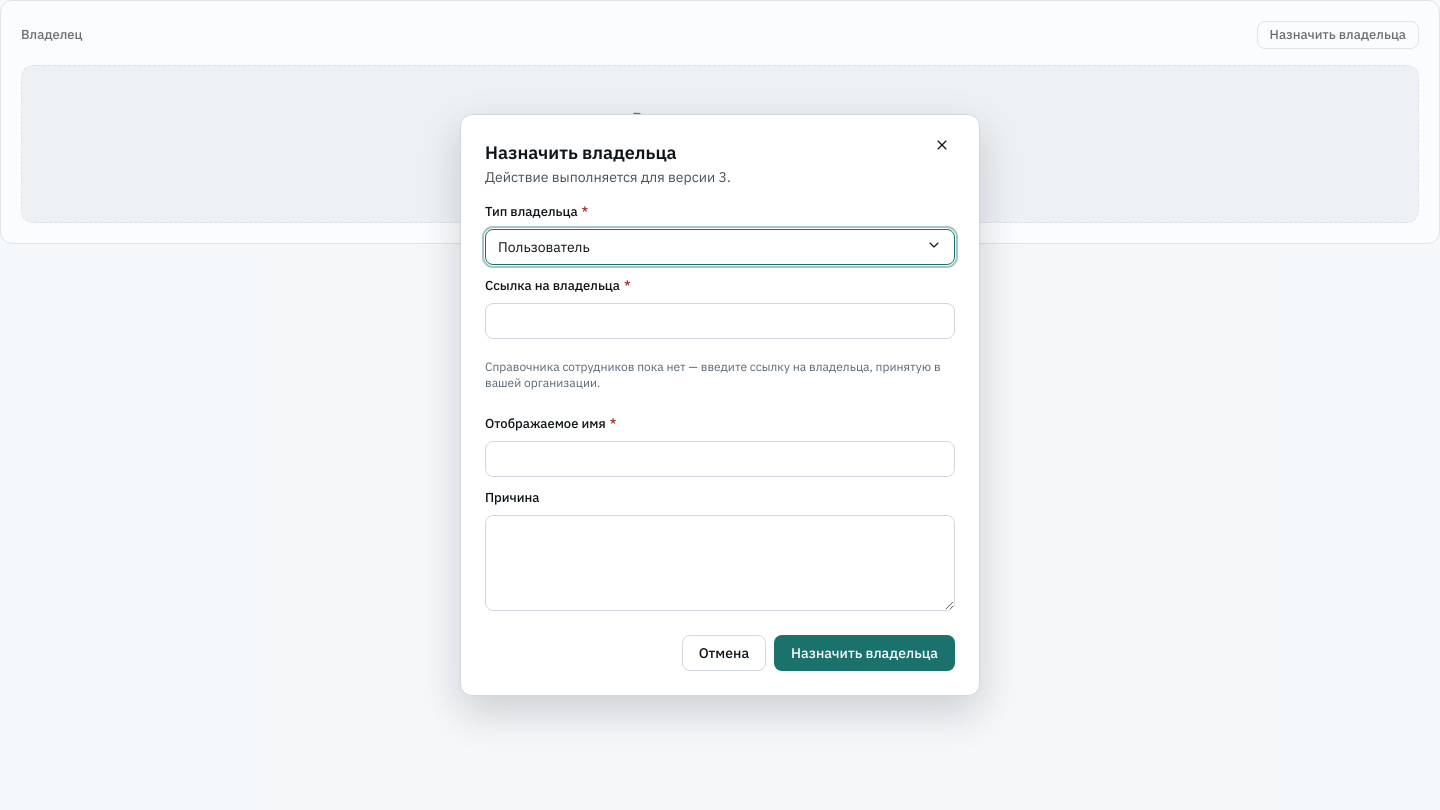
it: ControlOwnerSection › blocks submit with a field error when the owner reference is blank
The width and height of the screenshot is (1440, 810).
Type "Site Safety Team" into the field labelled "Отображаемое имя*" at (720, 459), box top-left (485, 441), bottom-right (955, 477)
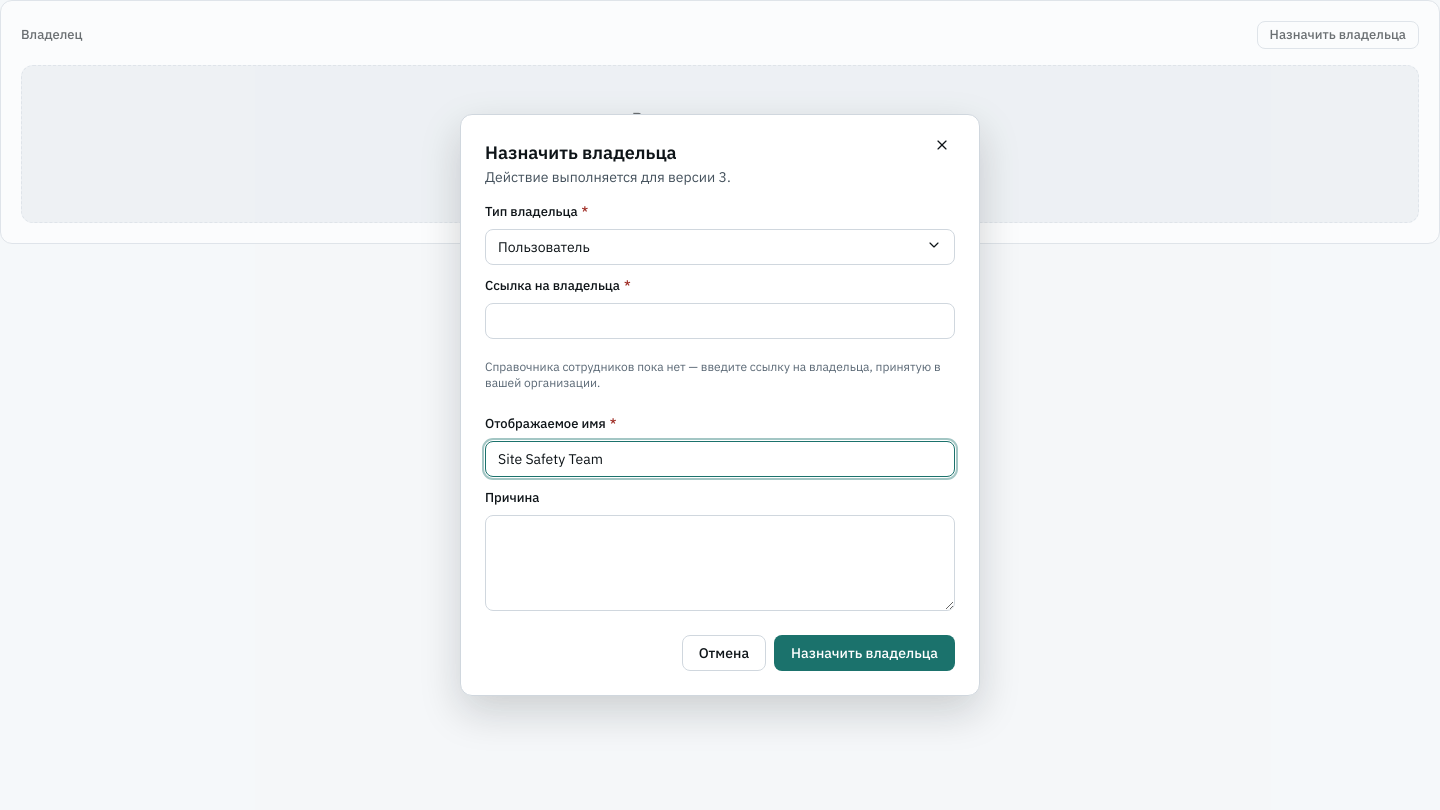
Click the button "Назначить владельца" at (865, 653), box top-left (774, 635), bottom-right (955, 671)
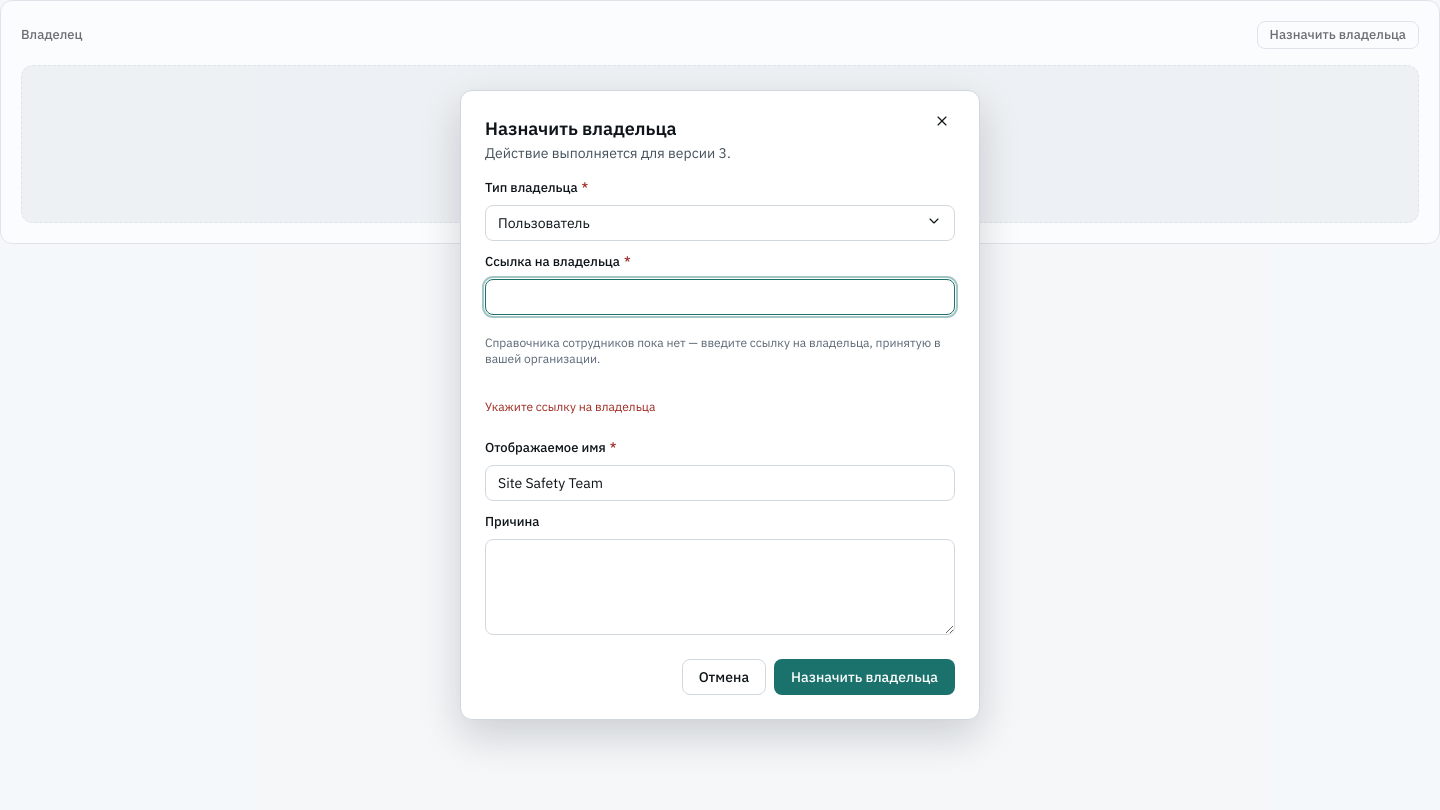
expect the text "Укажите ссылку на владельца" is shown: met, box top-left (485, 399), bottom-right (656, 414)
